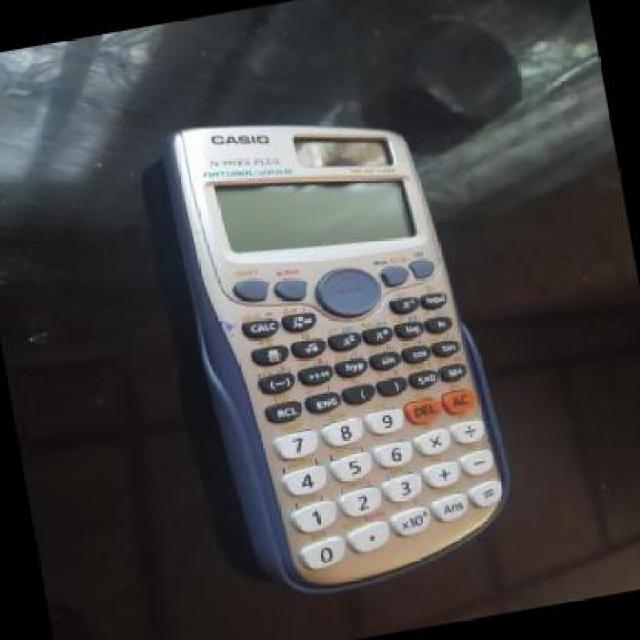Calculator: (149, 79, 529, 616)
